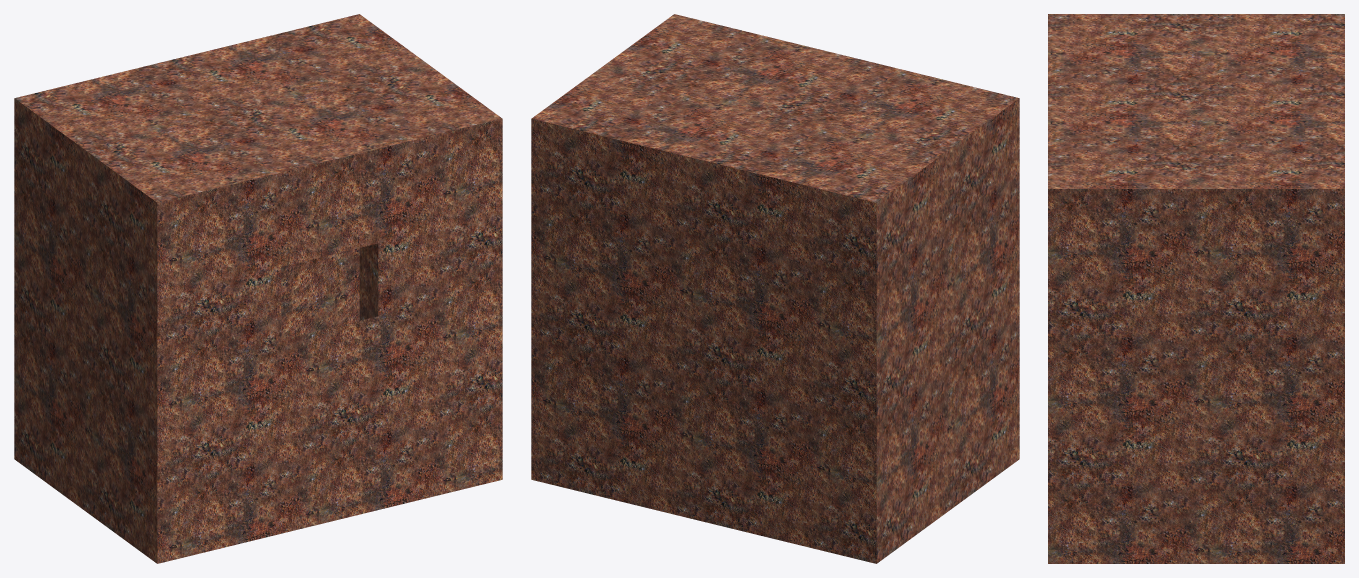
The model's file is tank.glb.
3 views of the same model, side by side, from view 1: azimuth 30°, elevation 25°; view 2: azimuth 150°, elevation 25°; view 3: azimuth 270°, elevation 25° (orthographic). The views are drawn at different scales.
Visible parts, largest first — view 1: tank; view 2: tank; view 3: tank.
Boxes of the visible parts, x1,y1,x2,y2 form: tank: (14, 14, 502, 563); tank: (531, 14, 1019, 563); tank: (1048, 14, 1344, 563).
Bounding box in the file's own units: 2.79 × 2.79 × 2.
Materials: 1 (1 with a texture image).
